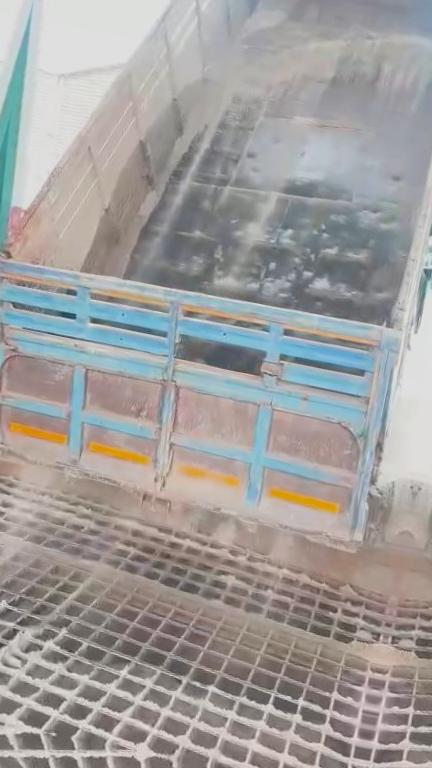sand: (98, 35, 432, 277), (0, 503, 385, 669), (12, 463, 57, 526), (0, 366, 23, 477), (0, 633, 30, 713), (360, 552, 403, 596), (250, 8, 284, 30)
